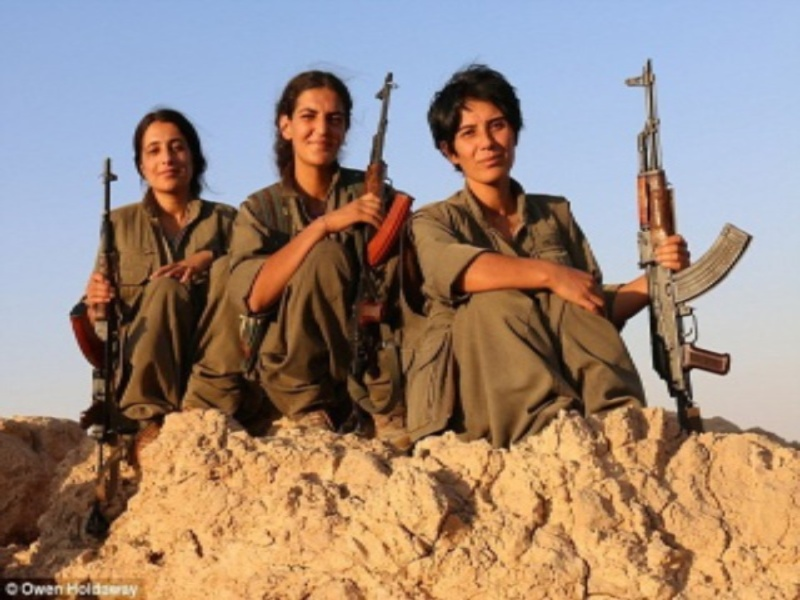person: (402, 63, 690, 442), (229, 72, 413, 436), (70, 107, 240, 418)
weapon: (624, 60, 754, 435), (350, 72, 411, 434), (90, 157, 131, 545)
